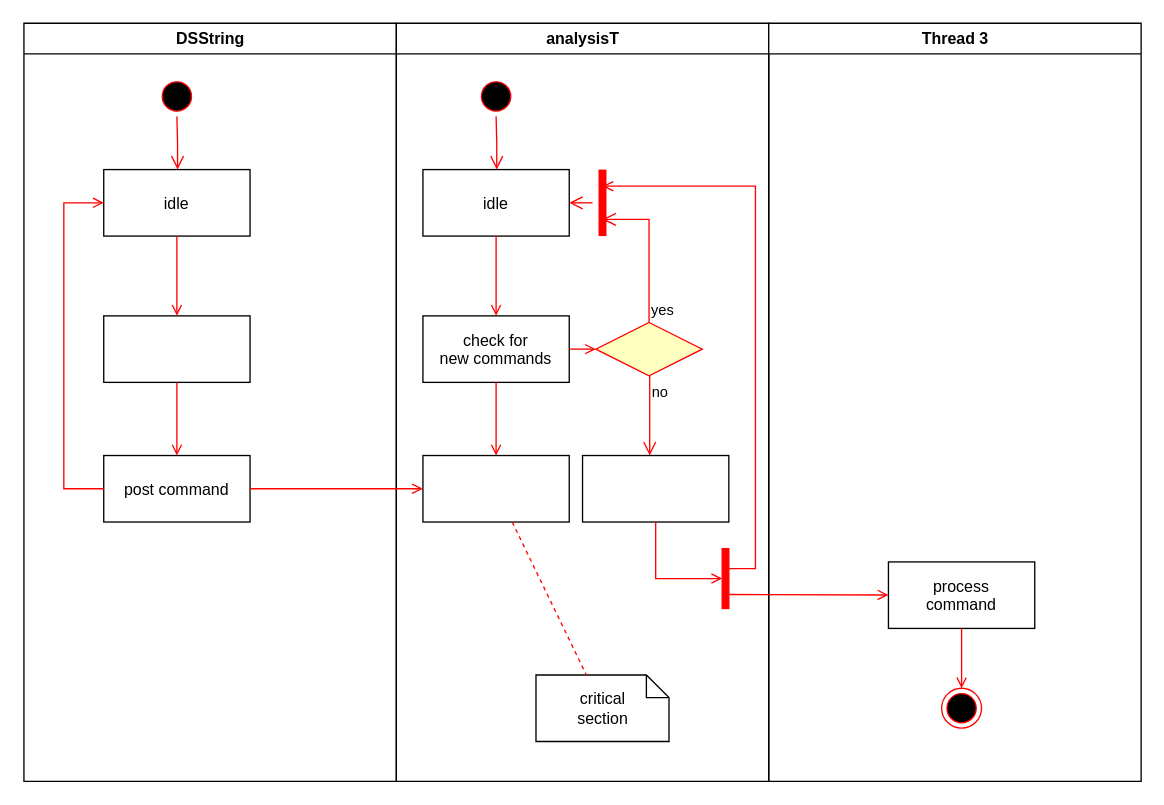
The diagram is 1164 pixels wide and 805 high, and some of its shapes have lost their labels. Here are the shapes that lost their labels. From the top down, the centre of each, then its label:
the point at 176,348: user action
the point at 648,348: queue empty
the point at 495,488: command queue
the point at 655,488: dispatch command worker thread
